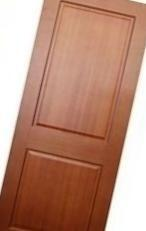door: (1, 0, 144, 231)
